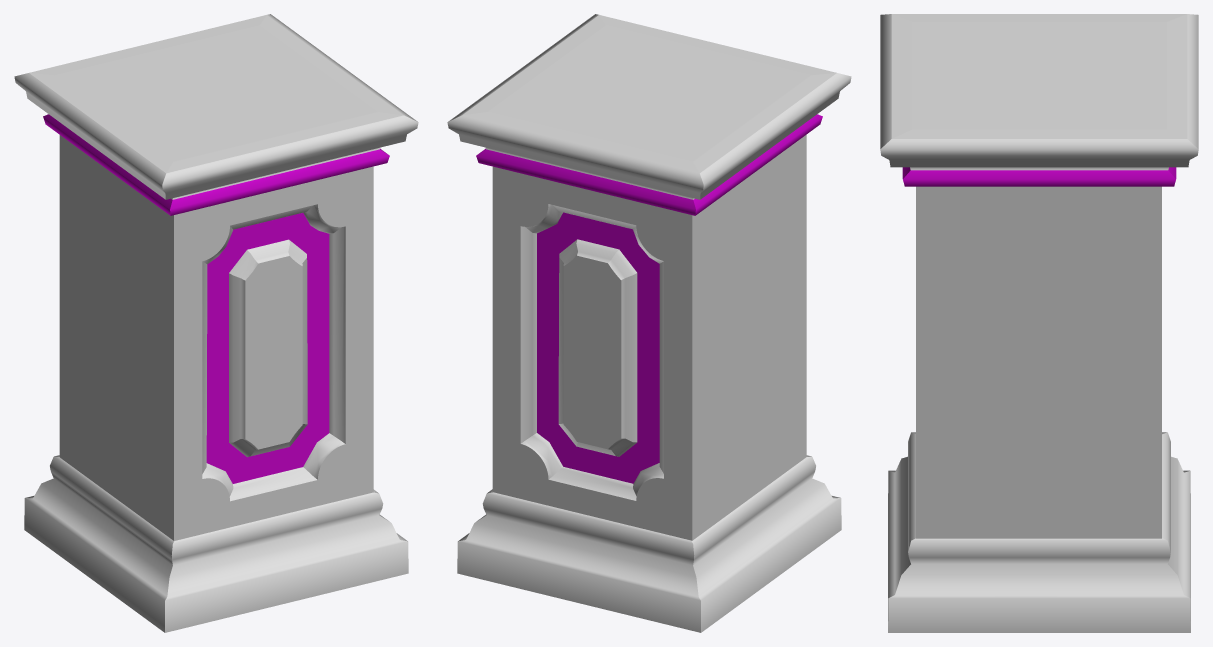
Rendered from PedestalHolder_LowPoly.fbx.
3 views of the same model, side by side, from view 1: azimuth 30°, elevation 25°; view 2: azimuth 150°, elevation 25°; view 3: azimuth 270°, elevation 25° (orthographic). The views are drawn at different scales.
Visible parts, largest first — view 1: Pedestal001; view 2: Pedestal001; view 3: Pedestal001.
Part boxes in pixels (x1=…): Pedestal001: x1=14, y1=14, x2=418, y2=632; Pedestal001: x1=447, y1=14, x2=851, y2=632; Pedestal001: x1=880, y1=14, x2=1198, y2=632.
Bounding box in the file's own units: 48.54 × 82.91 × 48.54.
